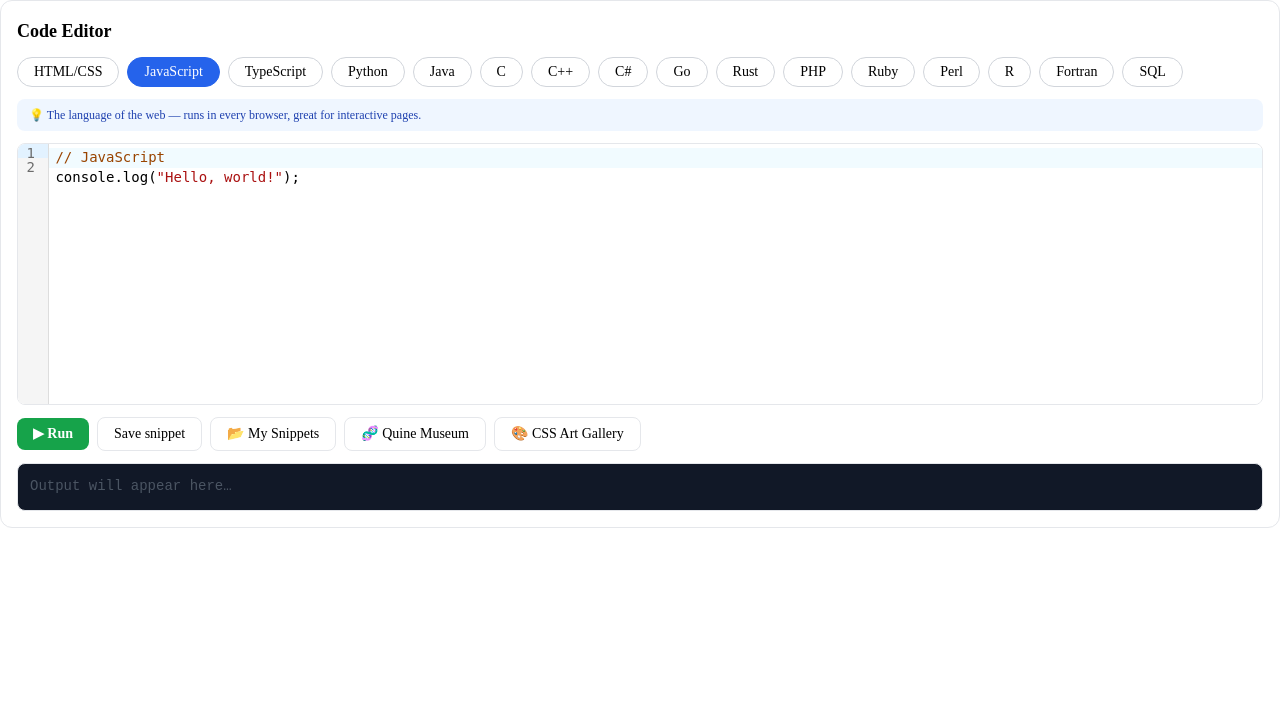
Scenario: CodeEditor › saves a snippet via the progress API
Click the button "Save snippet".
click(150, 434)  # box [97,417,202,451]
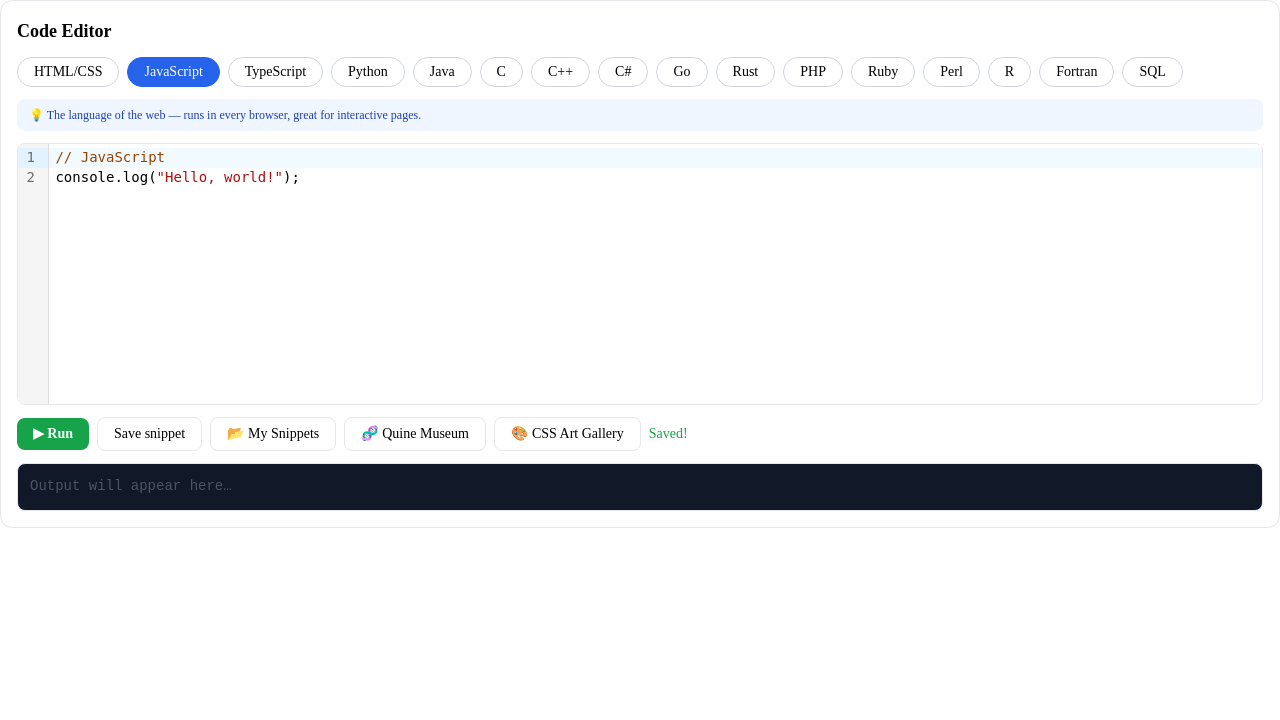
Result: the text "Saved!" is shown at [649,424,688,444]
